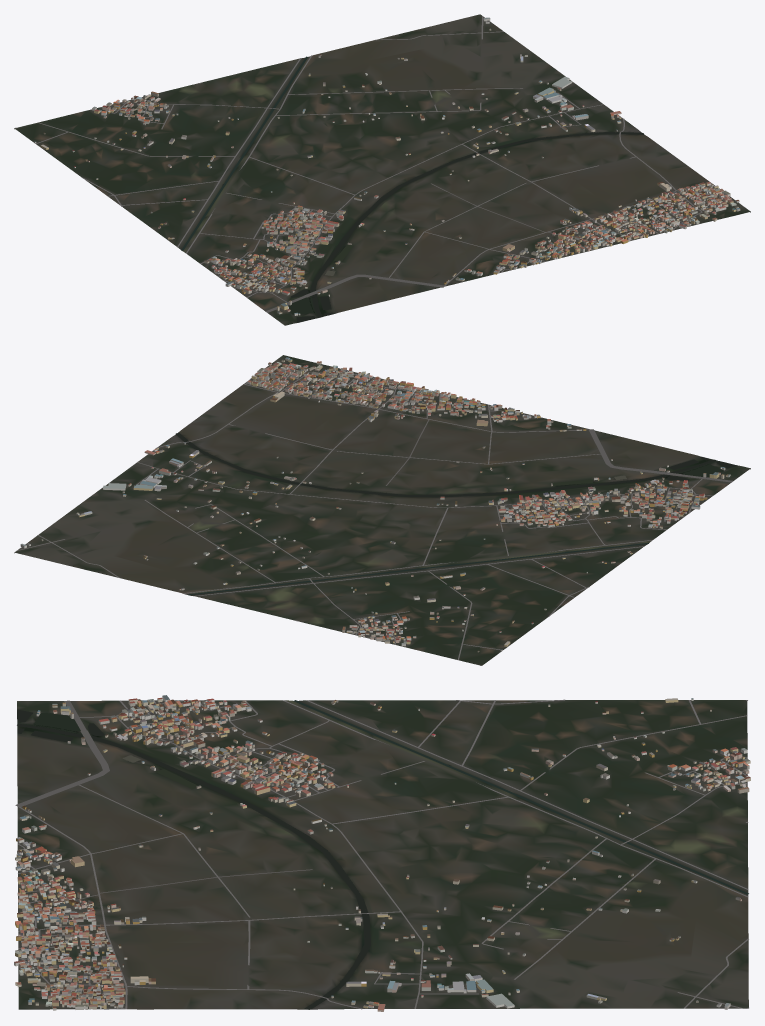
3 renders of one model, top to bottom at view 1: azimuth 30°, elevation 25°; view 2: azimuth 150°, elevation 25°; view 3: azimuth 270°, elevation 25°, orthographic. The views are drawn at different scales.
Parts seen in each view (by area): view 1: ground, buildings, roads, water; view 2: ground, buildings, roads, water; view 3: ground, buildings, roads, water.
Boxes of the visible parts, x1,y1,x2,y2 form: ground: (14, 14, 750, 325); buildings: (34, 17, 740, 315); roads: (14, 14, 714, 312); water: (181, 56, 644, 322); ground: (14, 355, 750, 665); buildings: (20, 357, 730, 652); roads: (14, 372, 732, 665); water: (176, 432, 737, 595); ground: (17, 700, 748, 1009); buildings: (14, 695, 750, 1011); roads: (15, 699, 748, 1009); water: (17, 700, 748, 1009).
Size of the model in its own units: 1423 by 16.2 by 1415.
